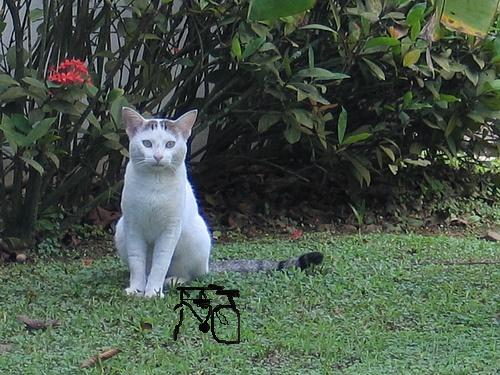tampered: (173, 285, 240, 344)
